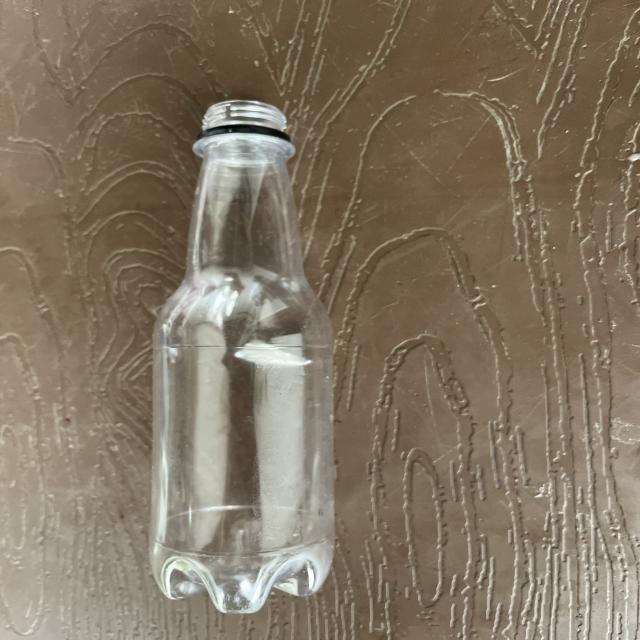PET_With_Cap: (143, 95, 336, 616)
